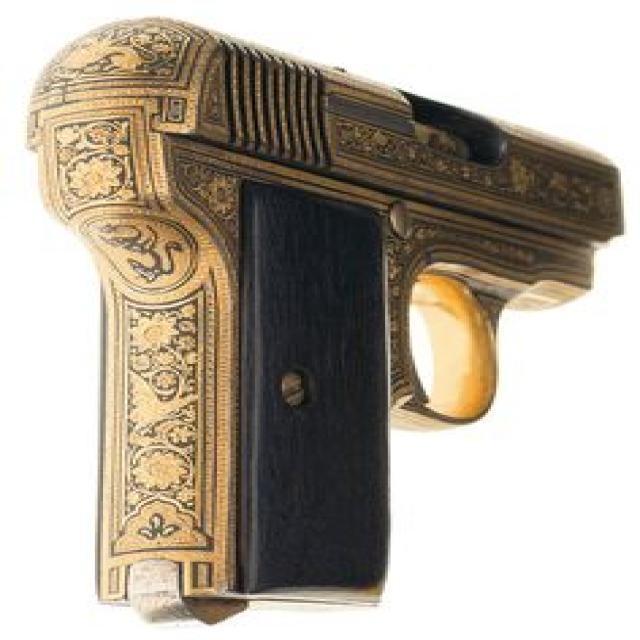semi automatic: (9, 7, 632, 628)
